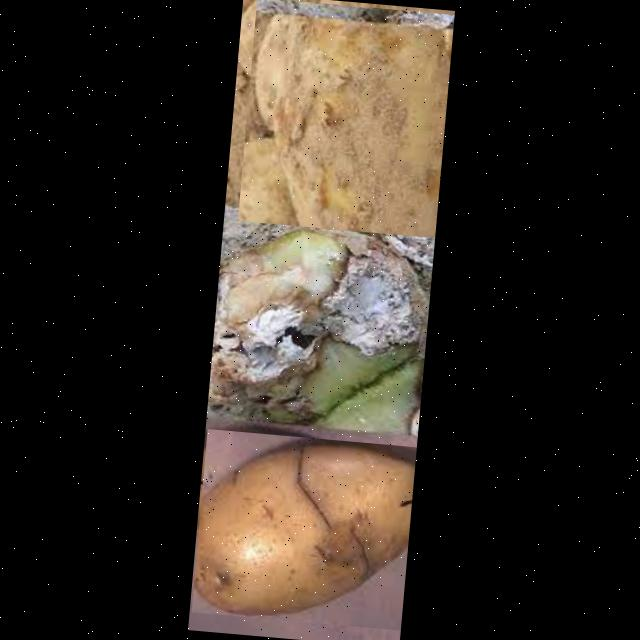Damaged potato: (236, 0, 453, 237), (211, 225, 433, 437), (190, 428, 415, 630)
